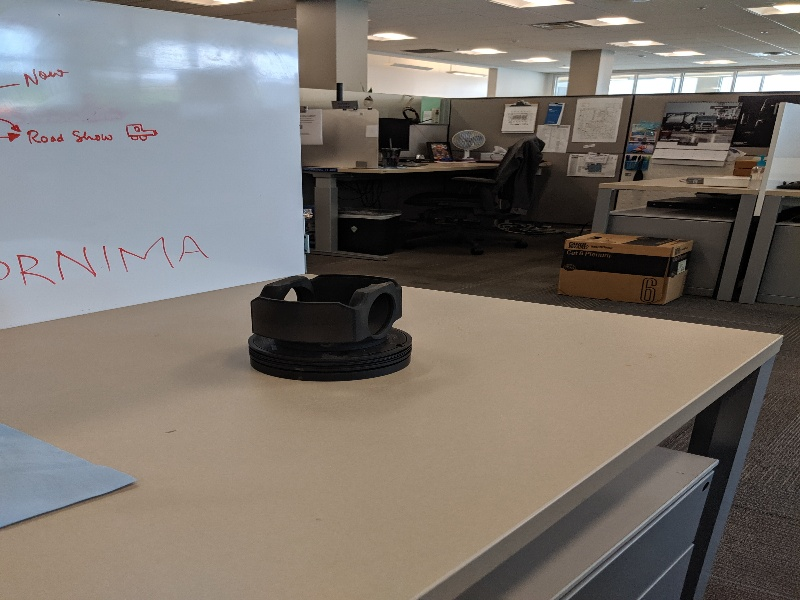piston: (240, 263, 418, 386)
